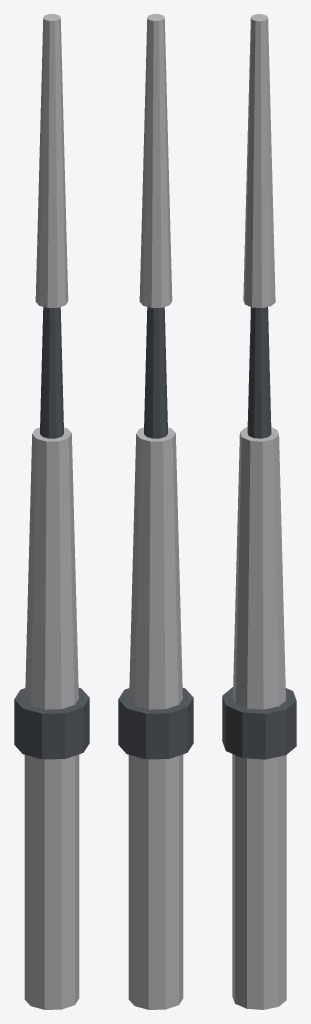
The model's file is Dropship_05_Antenna.fbx.
3 views of the same model, side by side, from view 1: azimuth 30°, elevation 25°; view 2: azimuth 210°, elevation 25°; view 3: azimuth 270°, elevation 25° (orthographic).
Parts seen in each view (by area): view 1: Dropship_05_Antenna; view 2: Dropship_05_Antenna; view 3: Dropship_05_Antenna.
Boxes of the visible parts, bbox=[...] form: Dropship_05_Antenna: bbox=[14, 14, 89, 1009]; Dropship_05_Antenna: bbox=[118, 14, 193, 1009]; Dropship_05_Antenna: bbox=[222, 14, 296, 1009].
Bounding box in the file's own units: 18.18 × 264 × 18.17.
Materials: 1 (1 with a texture image).
